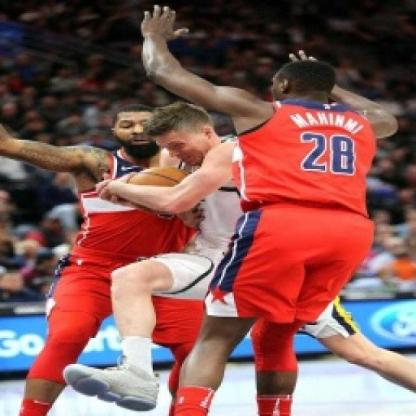basketball: (131, 169, 189, 206)
